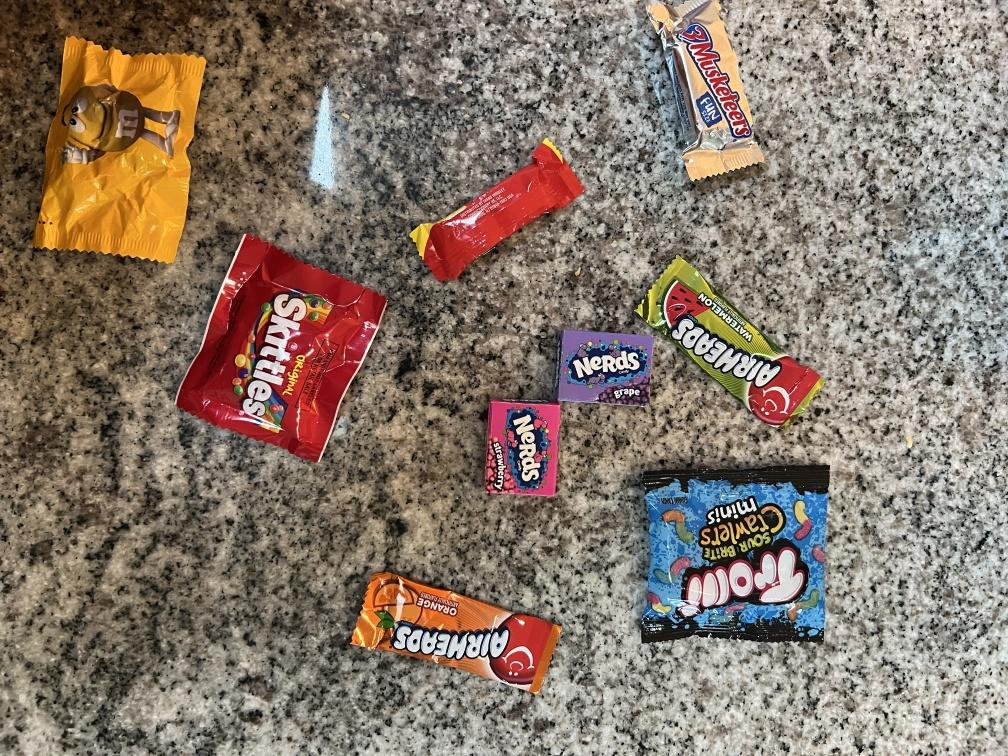MM_yellow: (31, 36, 208, 261)
Trolli: (636, 467, 832, 641)
airheads: (635, 254, 826, 429), (353, 567, 563, 691), (410, 137, 574, 279)
milky_way: (648, 1, 766, 184)
nerds: (555, 329, 650, 409), (483, 401, 558, 498)
skittles: (176, 234, 395, 460)
